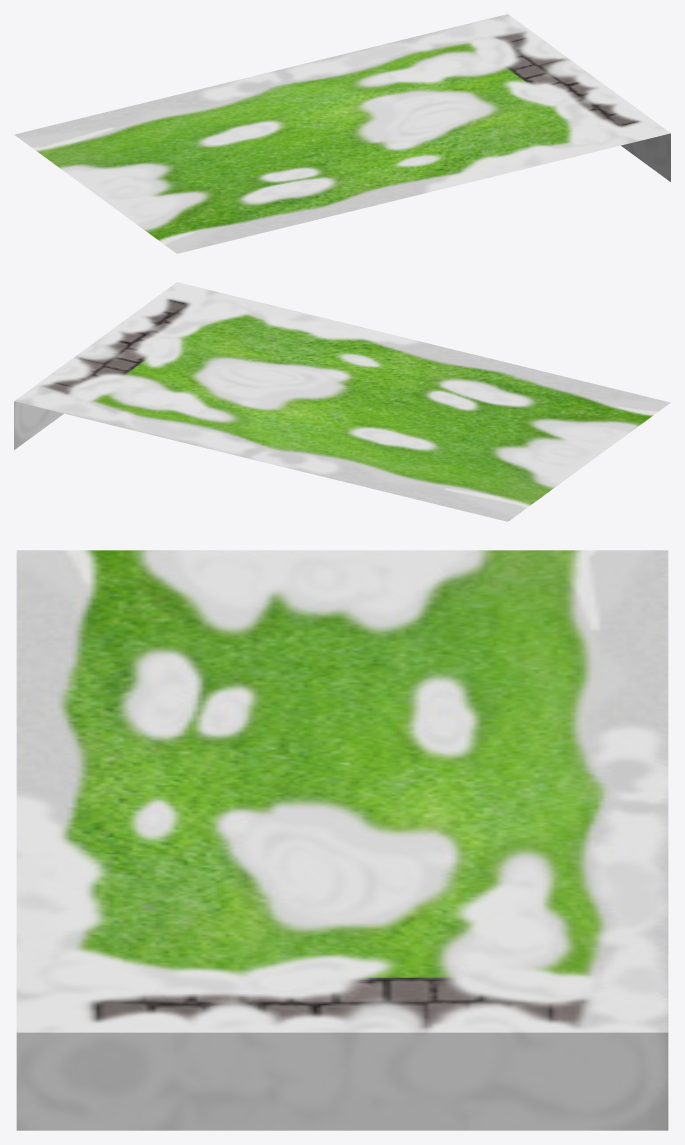
Rendered from SueloBase.FBX.
The picture shows the model from 3 angles, top to bottom: view 1: azimuth 30°, elevation 25°; view 2: azimuth 150°, elevation 25°; view 3: azimuth 270°, elevation 25°; orthographic projection. The views are drawn at different scales.
Parts seen in each view (by area): view 1: modelB002; view 2: modelB002; view 3: modelB002.
Boxes of the visible parts, x1,y1,x2,y2 form: modelB002: (14,14,670,253); modelB002: (14,282,670,521); modelB002: (16,550,668,1130).
Size of the model in its own units: 276 by 157 by 26.14.
